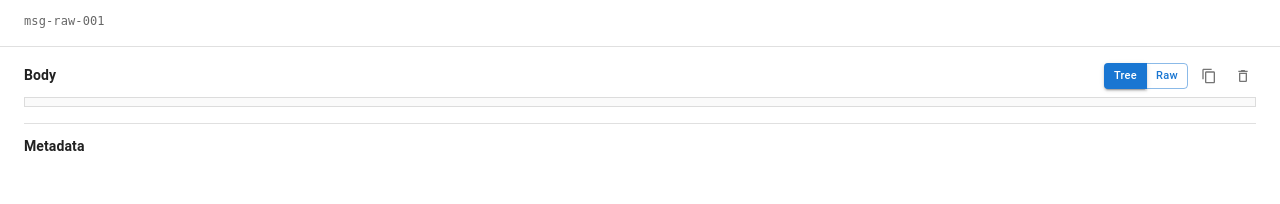
<MessageDetail /> › switches to raw view and renders pre element when Raw button is clicked
Click the button "Raw".
click(1167, 76)  # box [1146,63,1188,89]
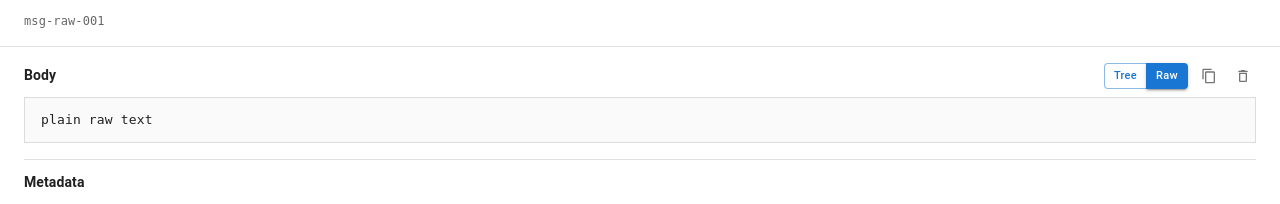
Now the text "plain raw text" is shown, box [24,97,1256,142]
